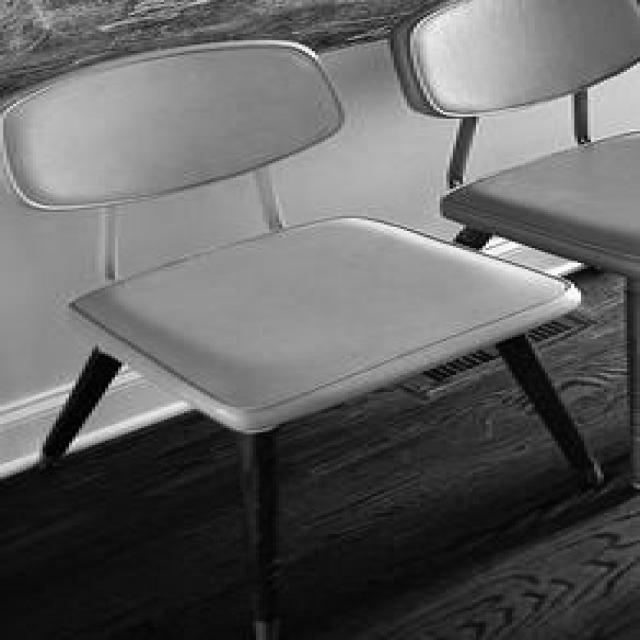chair: (1, 40, 614, 636), (392, 0, 639, 488)
